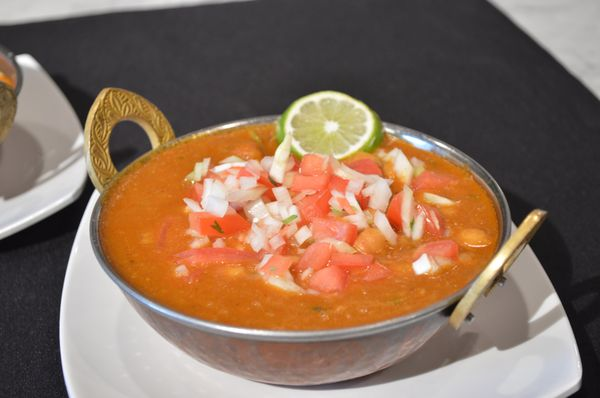salad: (447, 208, 550, 332)
sushi: (98, 90, 507, 339)
